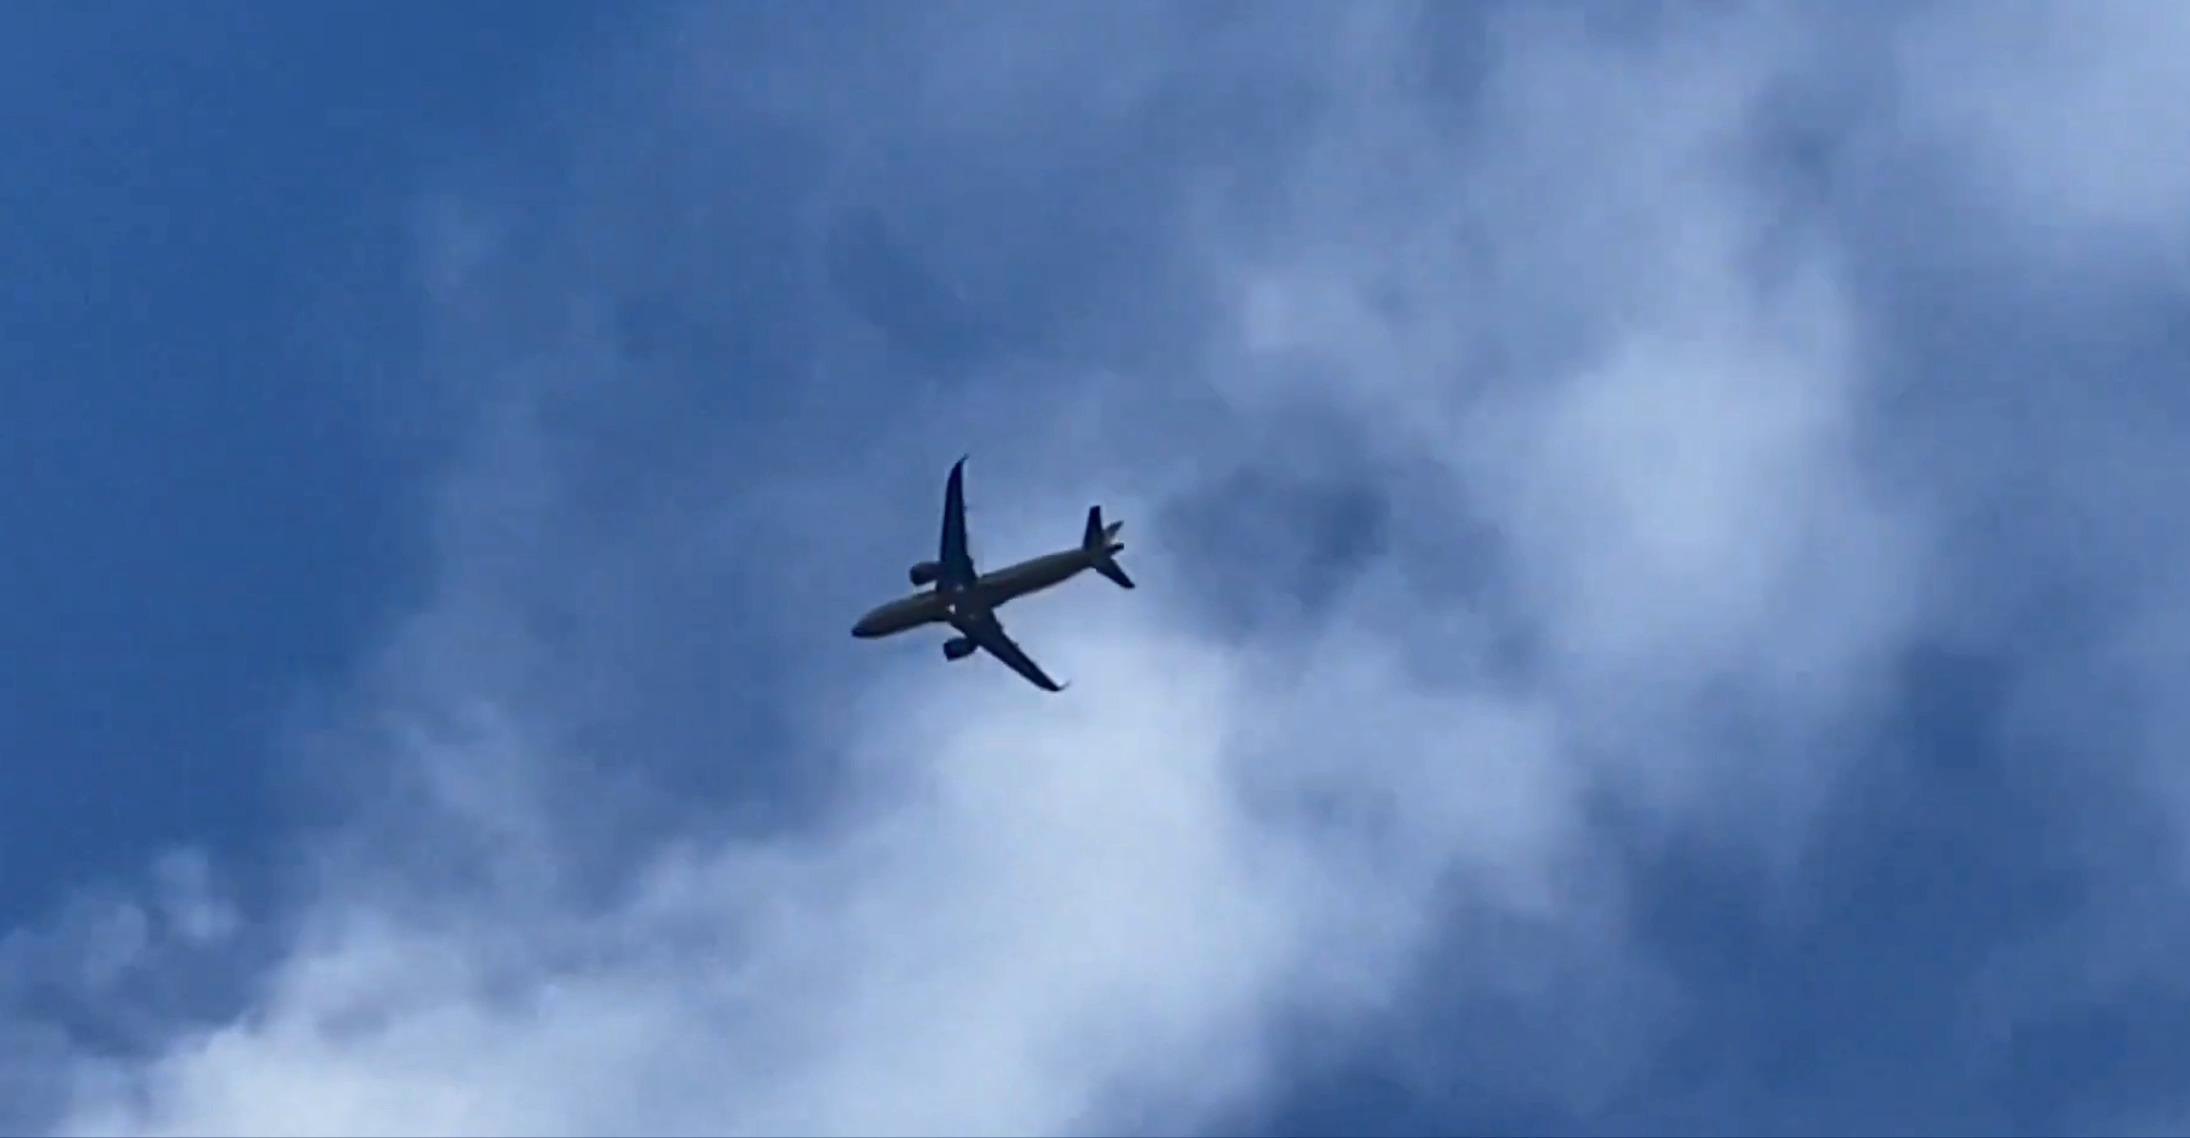Plane: (834, 443, 1207, 696)
